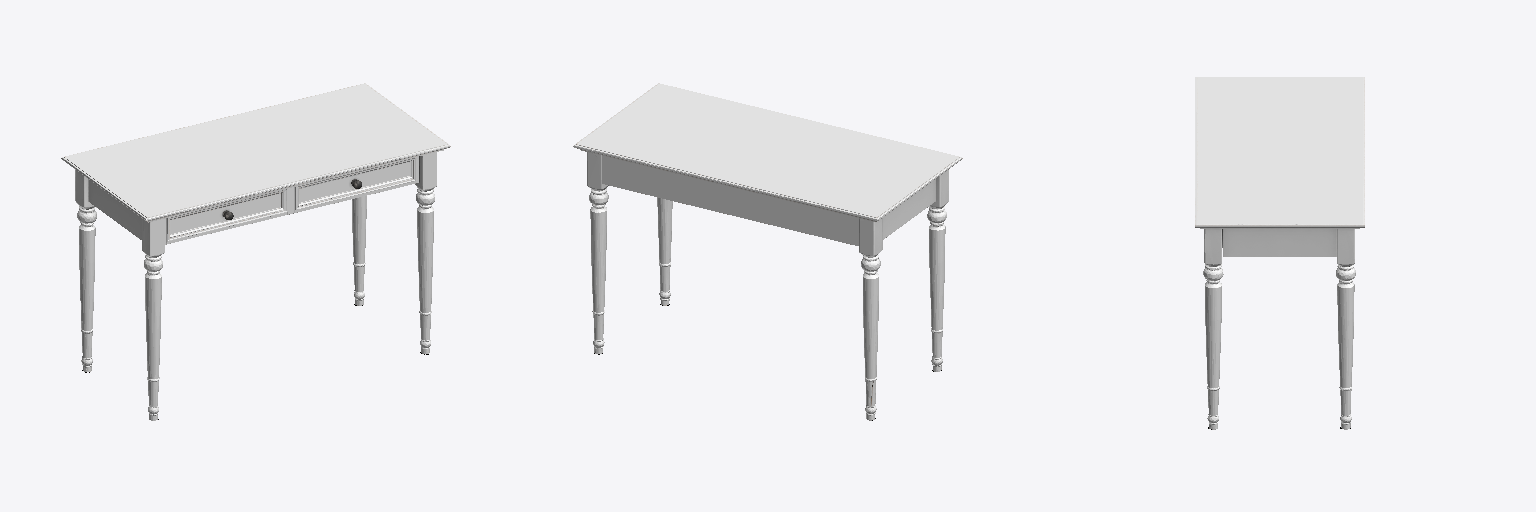
3 renders of one model, left to right at view 1: azimuth 30°, elevation 25°; view 2: azimuth 150°, elevation 25°; view 3: azimuth 270°, elevation 25°, orthographic.
Parts seen in each view (by area): view 1: solid_002; view 2: solid_002; view 3: solid_002.
Part boxes in pixels (x1,y1,x2,y2): solid_002: (61, 83, 450, 420); solid_002: (573, 83, 962, 420); solid_002: (1195, 77, 1364, 429).
Bounding box in the file's own units: 1.2 × 0.7663 × 0.6073.
1 materials, 1 textured.